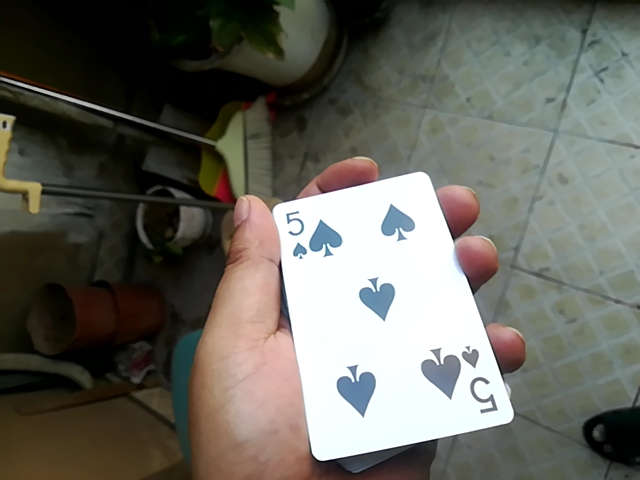ht 5: (264, 168, 495, 469)
